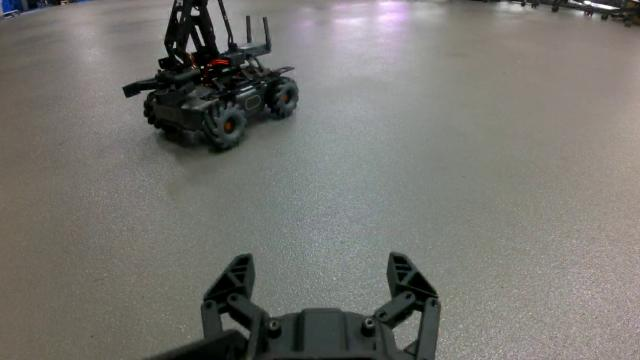robot: (121, 0, 300, 150)
